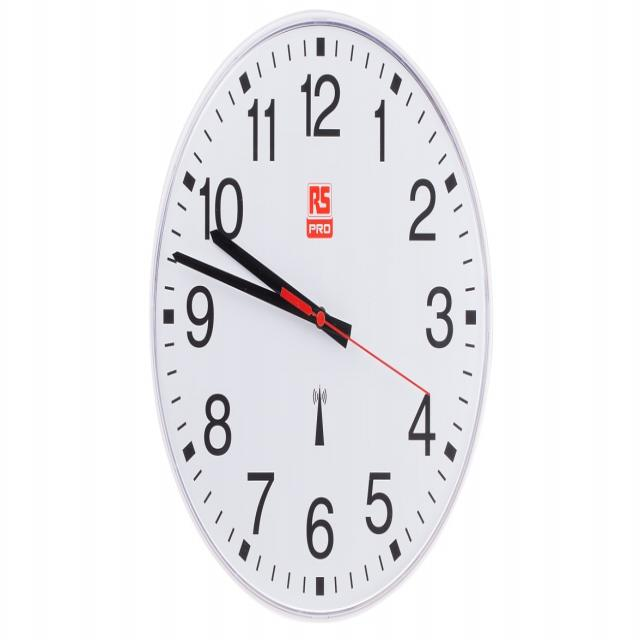clock: (128, 0, 530, 640)
